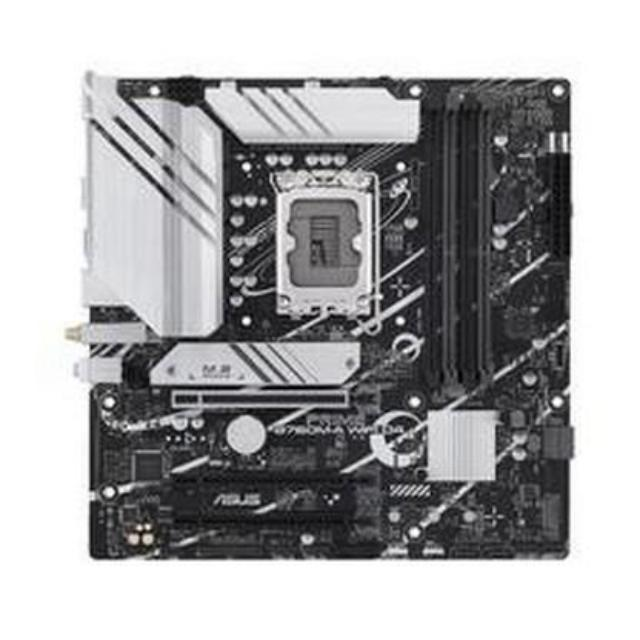Mainboard: (75, 68, 572, 570)
